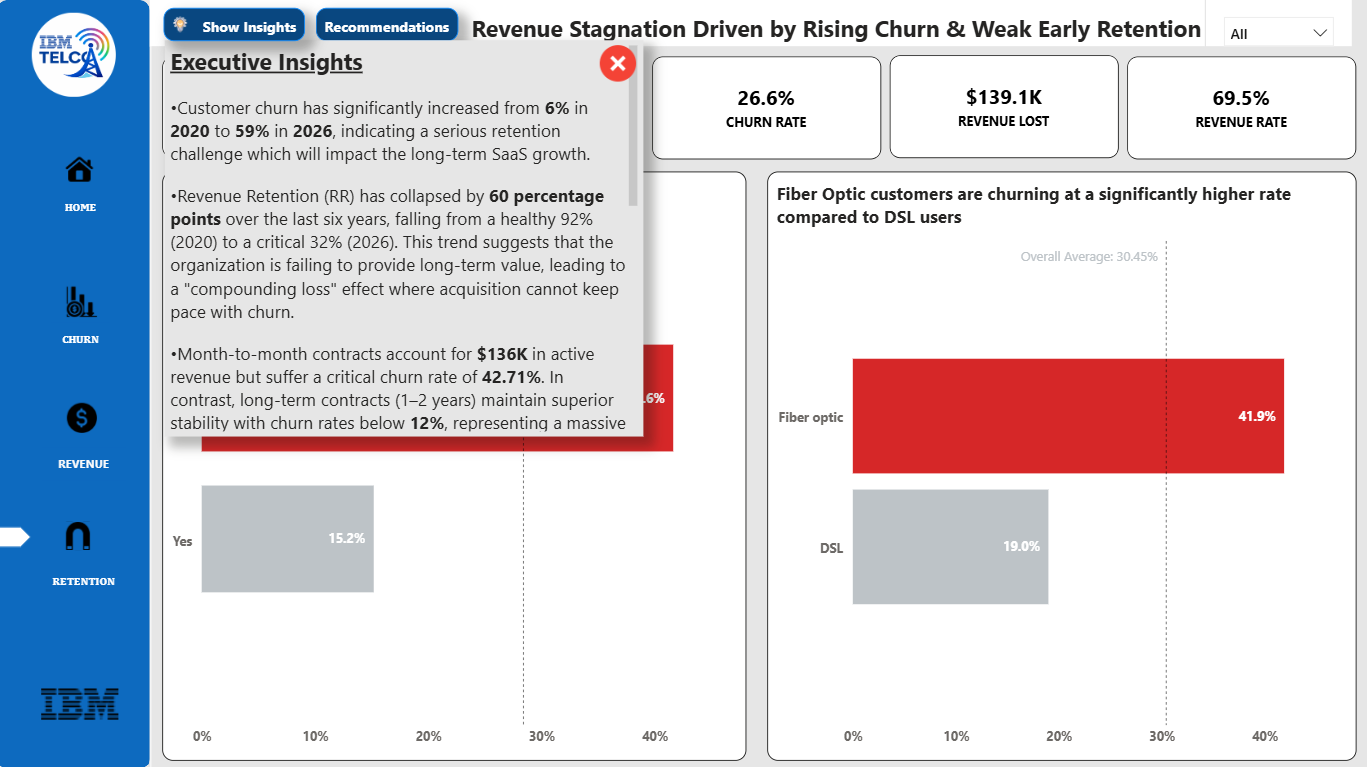

The page's visual inventory and layout, read from the dashboard file:
{"tool":"powerbi","page":{"name":"Retention Drivers","canvas":[1280,720],"ordinal":3},"visuals":[{"type":"clusteredBarChart","title":"Support Gap: Absence of Tech Support Drives Churn","fields":{"Category":["tech support impact.TechSupport"],"Y":["tech support impact.churned_rate_tech"]},"box":[154.6,160.7,544.8,549.7],"z":0},{"type":"clusteredBarChart","title":"Fiber Optic customers are churning at a significantly higher rate compared to DSL users","fields":{"Category":["feature adoption impact.InternetService"],"Y":["feature adoption impact.churn feature rate"]},"box":[719,160.7,549.7,549.7],"z":1000},{"type":"shape","box":[0,0,144.8,720.2],"z":2000},{"type":"actionButton","box":[49.1,127.6,57.7,66.3],"z":3000},{"type":"actionButton","box":[51.5,246.6,57.7,69.9],"z":4000},{"type":"actionButton","box":[51.5,360.7,57.7,61.4],"z":5000},{"type":"textbox","box":[51.5,177.9,55.2,33.1],"z":6000},{"type":"textbox","box":[51.5,301.8,55.2,33.1],"z":7000},{"type":"textbox","box":[42.9,418.4,77.3,30.7],"z":8000},{"type":"actionButton","box":[51.5,476.1,55.2,50.3],"z":9000},{"type":"textbox","box":[42.9,526.4,77.3,39.3],"z":10000},{"type":"image","box":[22.1,618.4,111.7,82.2],"z":11000},{"type":"image","box":[22.1,12.3,100.6,78.5],"z":12000},{"type":"textbox","box":[143.6,0,984,44],"z":13000},{"type":"actionButton","title":"recom button","box":[298.2,8,132.5,31],"z":15000},{"type":"shape","box":[0,492,33.1,19.6],"z":16000},{"type":"cardVisual","fields":{"Data":["CUSTOMERS.KPI Card Display"]},"box":[154.6,54,213.5,94],"z":21000},{"type":"cardVisual","fields":{"Data":["ARR.KPI CARD ARR"]},"box":[375.5,54,228.2,95.7],"z":22000},{"type":"cardVisual","fields":{"Data":["churn per year - churn per year.KPI CR"]},"box":[612,54,213.5,95.7],"z":23000},{"type":"cardVisual","fields":{"Data":["annual churn mrr.kpi churn mrr"]},"box":[834,53,213.5,95.7],"z":24000},{"type":"cardVisual","fields":{"Data":["revenue rate.kpi rr"]},"box":[1055.2,54,213.5,95.7],"z":25000},{"type":"slicer","fields":{"Values":["ARR.YEAR"]},"box":[1128.8,0,136.2,44.2],"z":26000},{"type":"actionButton","title":"insight button","box":[155.8,8,132,31],"z":26500}]}

Visuals, with their boxes on the page's 1280x720 design canvas (x1, y1, x2, y2). These are canvas units, not pixel positions in the 1367x767 screenshot, which may show the page scaled, cropped or inside an application window:
"Support Gap: Absence of Tech Support Drives Churn" clusteredBarChart: 155:161:699:710
"Fiber Optic customers are churning at a significantly higher rate compared to DSL users" clusteredBarChart: 719:161:1269:710
shape: 0:0:145:720
actionButton: 49:128:107:194
actionButton: 52:247:109:316
actionButton: 52:361:109:422
textbox: 52:178:107:211
textbox: 52:302:107:335
textbox: 43:418:120:449
actionButton: 52:476:107:526
textbox: 43:526:120:566
image: 22:618:134:701
image: 22:12:123:91
textbox: 144:0:1128:44
"recom button" actionButton: 298:8:431:39
shape: 0:492:33:512
cardVisual - CUSTOMERS.KPI Card Display: 155:54:368:148
cardVisual - ARR.KPI CARD ARR: 376:54:604:150
cardVisual - churn per year - churn per year.KPI CR: 612:54:826:150
cardVisual - annual churn mrr.kpi churn mrr: 834:53:1048:149
cardVisual - revenue rate.kpi rr: 1055:54:1269:150
slicer - ARR.YEAR: 1129:0:1265:44
"insight button" actionButton: 156:8:288:39
